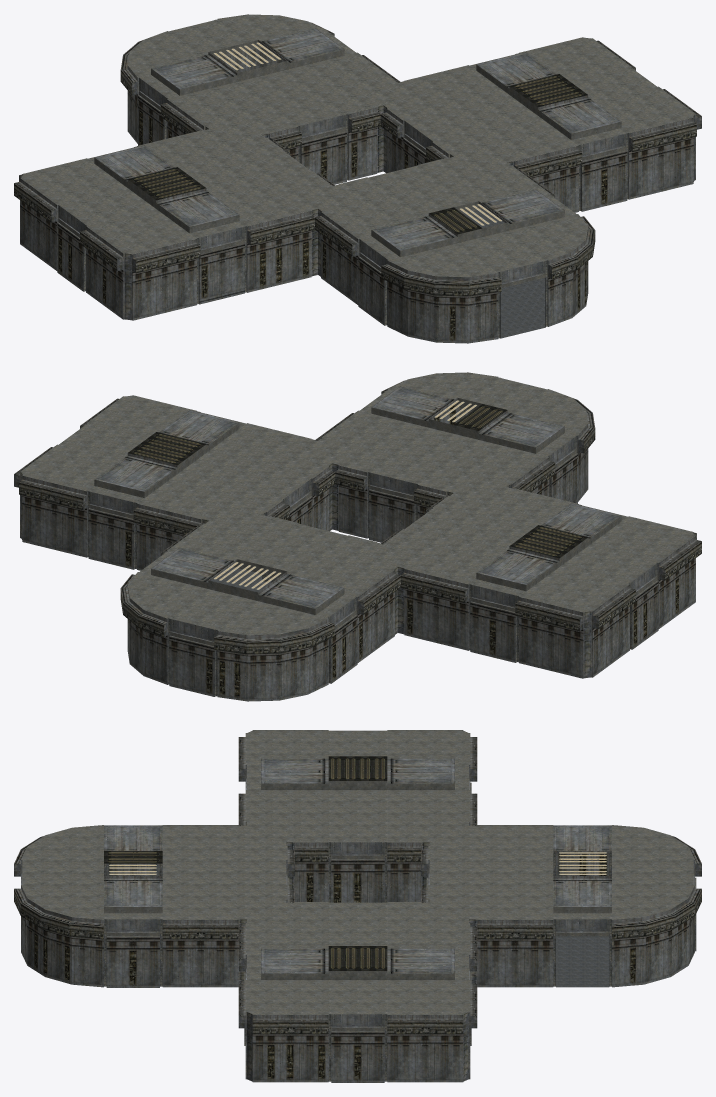
The model's file is poi_all_impl_bunker_abandoned_s01_r10_computer_mesh.fbx.
The picture shows the model from 3 angles, top to bottom: view 1: azimuth 30°, elevation 25°; view 2: azimuth 150°, elevation 25°; view 3: azimuth 270°, elevation 25°; orthographic projection.
Visible parts, largest first — view 1: mesh_node; view 2: mesh_node; view 3: mesh_node.
Boxes of the visible parts, box(x1,y1,x2,y2) form: mesh_node: box(14, 14, 701, 343); mesh_node: box(14, 372, 701, 701); mesh_node: box(14, 730, 701, 1082).
Bounding box in the file's own units: 49 × 6 × 49.
